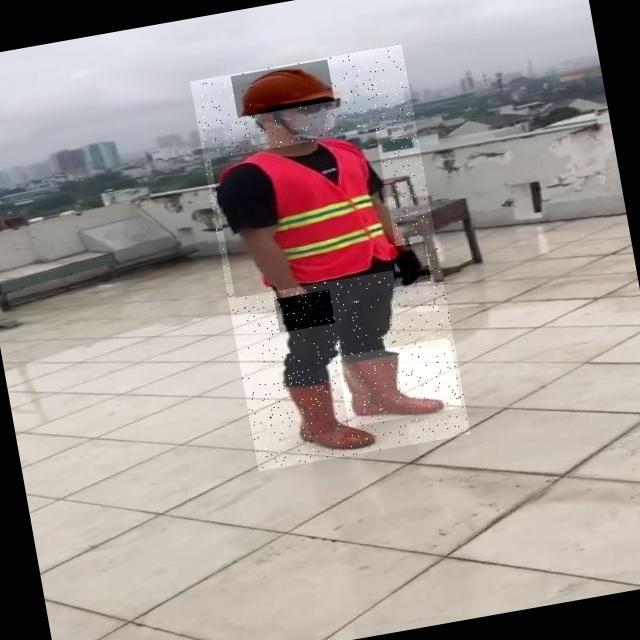Gloves: (274, 289, 335, 332), (389, 241, 431, 287)
Helmet: (230, 59, 334, 117)
Human: (190, 44, 470, 471)
Safety Boot: (337, 337, 462, 427), (276, 369, 377, 464)
Safety Vest: (211, 130, 400, 298)
